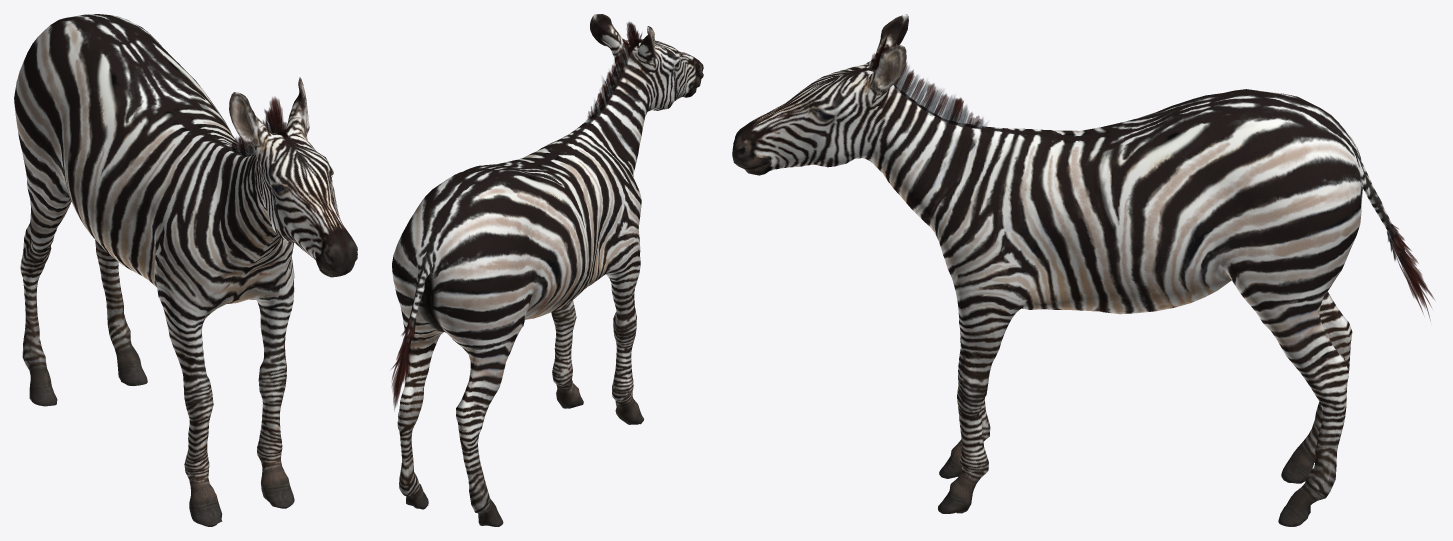
Rendered from zebra.glb.
The picture shows the model from 3 angles, left to right: view 1: azimuth 30°, elevation 25°; view 2: azimuth 150°, elevation 25°; view 3: azimuth 270°, elevation 25°; orthographic projection. The views are drawn at different scales.
Parts seen in each view (by area): view 1: Zebra_Body; view 2: Zebra_Body; view 3: Zebra_Body.
Boxes of the visible parts, x1,y1,x2,y2 form: Zebra_Body: [14, 14, 357, 526]; Zebra_Body: [392, 14, 703, 526]; Zebra_Body: [732, 14, 1404, 526].
Bounding box in the file's own units: 0.00659 × 0.0185 × 0.0254.
5 materials, 5 textured.
